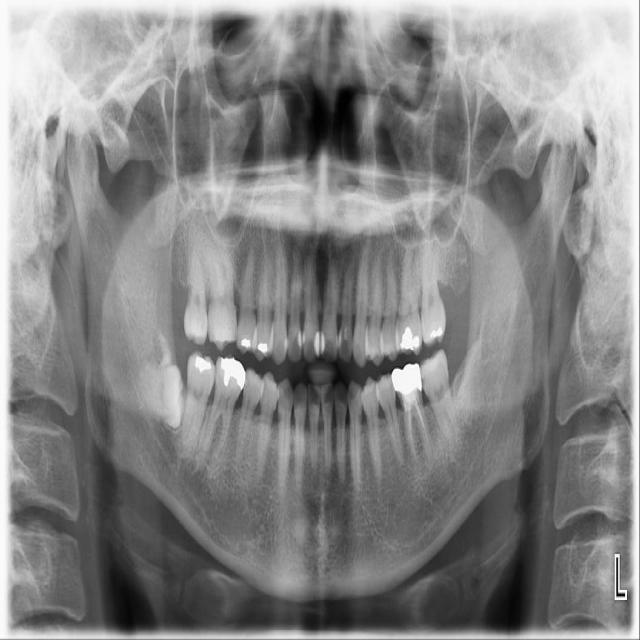52: (209, 353, 248, 403), (419, 301, 447, 349), (187, 351, 216, 393), (391, 362, 421, 402), (395, 313, 422, 356), (233, 317, 259, 356), (250, 322, 276, 360), (269, 320, 290, 365), (321, 325, 338, 360), (301, 328, 319, 360), (337, 327, 353, 362), (287, 324, 302, 361)
73: (399, 391, 435, 465), (592, 580, 598, 590)
BioHorizons Implant: (419, 236, 449, 350)
Blue Sky Bio Implant: (416, 348, 461, 449)
Caries: (177, 243, 210, 348)
Implant: (178, 349, 217, 460)
Keystone Dental Implant: (141, 364, 183, 427)
